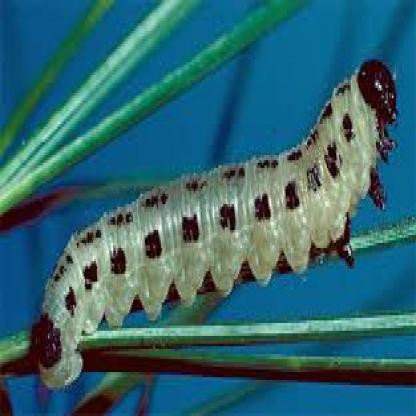sawfly: (33, 48, 403, 404)
